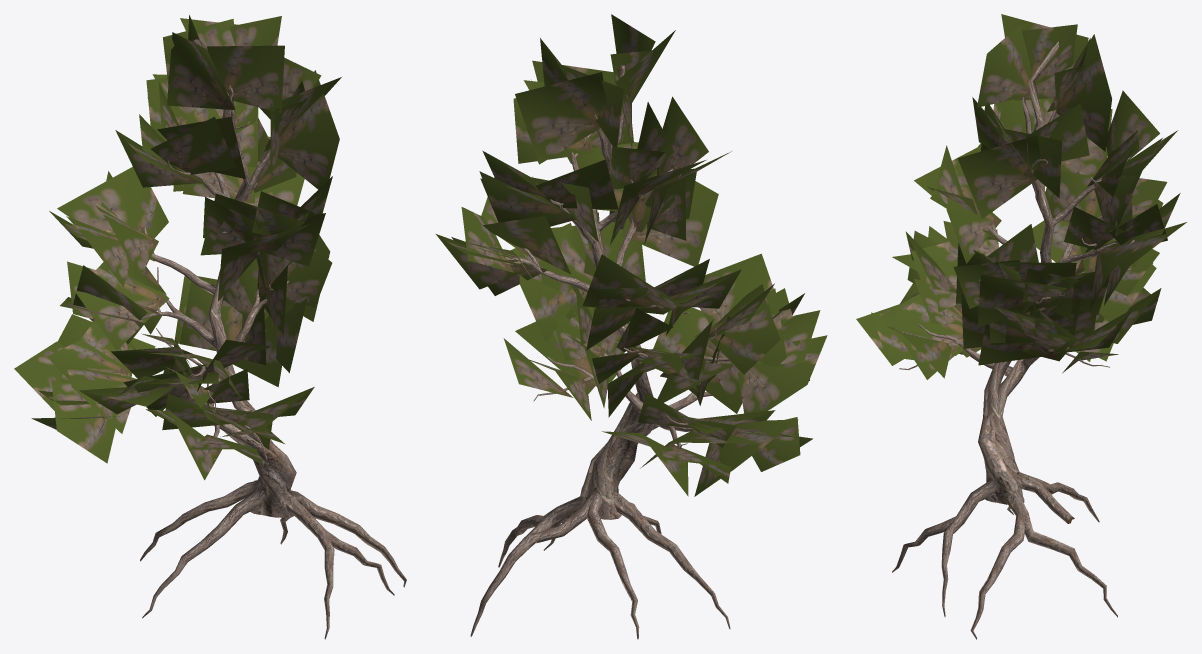
3 views of the same model, side by side, from view 1: azimuth 30°, elevation 25°; view 2: azimuth 150°, elevation 25°; view 3: azimuth 270°, elevation 25° (orthographic). The views are drawn at different scales.
Visible parts, largest first — view 1: Tree_2, Tree_0; view 2: Tree_2, Tree_0; view 3: Tree_2, Tree_0.
Boxes of the visible parts, x1,y1,x2,y2 form: Tree_2: (14, 15, 341, 480); Tree_0: (92, 39, 406, 639); Tree_2: (436, 14, 827, 496); Tree_0: (470, 65, 730, 639); Tree_2: (856, 14, 1186, 379); Tree_0: (892, 41, 1134, 639).
Size of the model in its own units: 2.57 by 4.24 by 2.36.
Materials: 3 (3 with a texture image).
